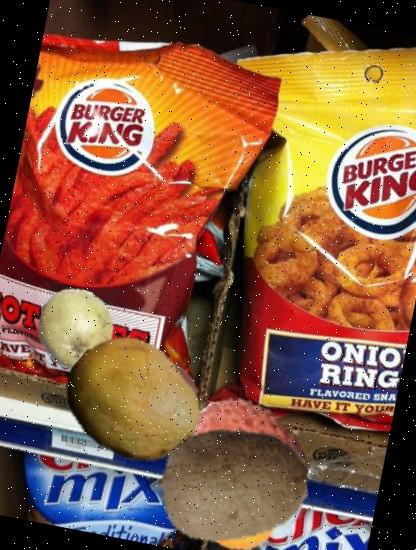Grapefruit: (115, 352, 206, 442)
Kiwi: (143, 395, 319, 550)
Lemon: (168, 431, 303, 550)
Lychee: (168, 382, 322, 536)
Papaya: (52, 320, 214, 481)
Pear: (28, 282, 122, 376)
